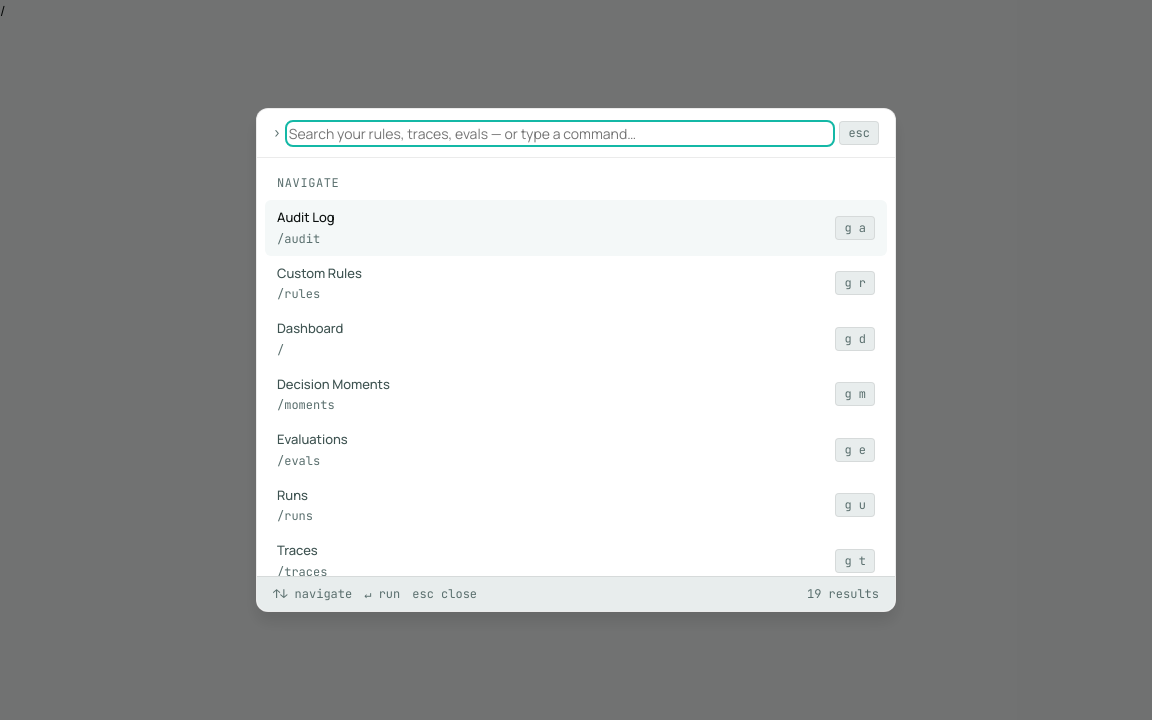
Test: CommandPalette › shows empty state when query matches nothing
The width and height of the screenshot is (1152, 720).
Type "asdfqwerty" into the dropdown with placeholder "Search your rules, traces, evals — or type a command…". click: (560, 133)
box: [289,124,831,142]
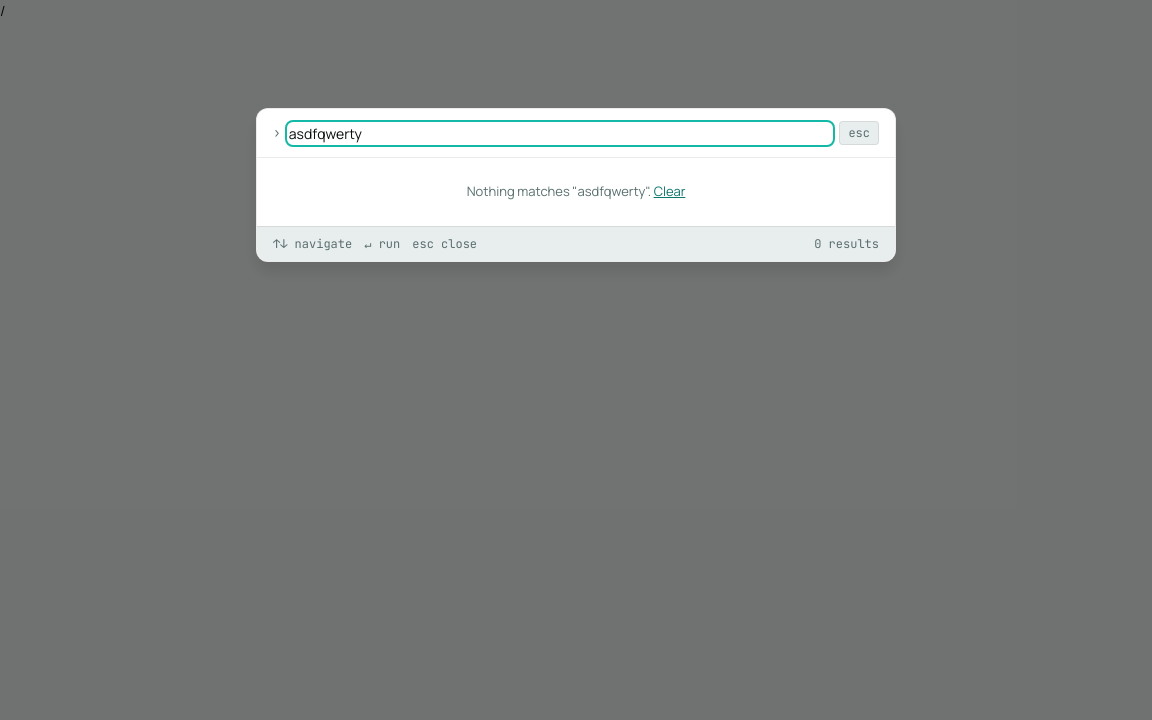
Now the text "Nothing matches \"asdfqwerty\". Clear" is shown, box [467,182,685,200]
Now the dropdown with placeholder "Search your rules, traces, evals — or type a command…" is collapsed, box [289,124,831,142]
